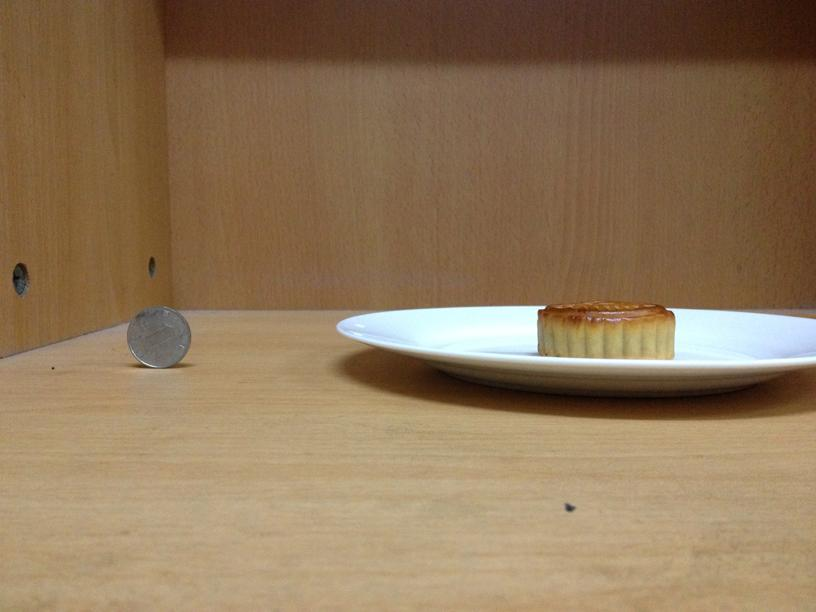coin: (126, 304, 190, 369)
mooncake: (536, 298, 676, 359)
